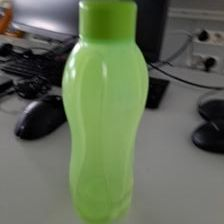bottle: (61, 0, 153, 222)
